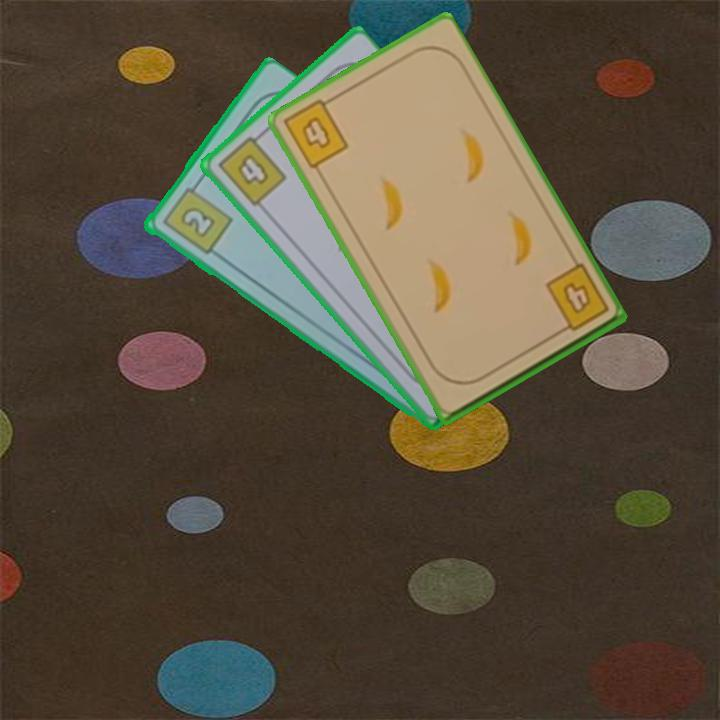2b: (158, 178, 234, 258)
4b: (214, 128, 290, 210), (280, 93, 351, 172), (541, 260, 612, 338)
